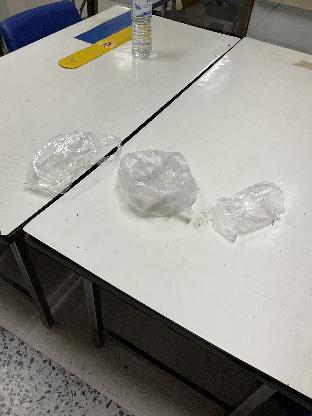Plastic Bag: (115, 140, 201, 224), (198, 176, 298, 244), (26, 128, 104, 188)
Plastic Bottle: (128, 0, 156, 58)
